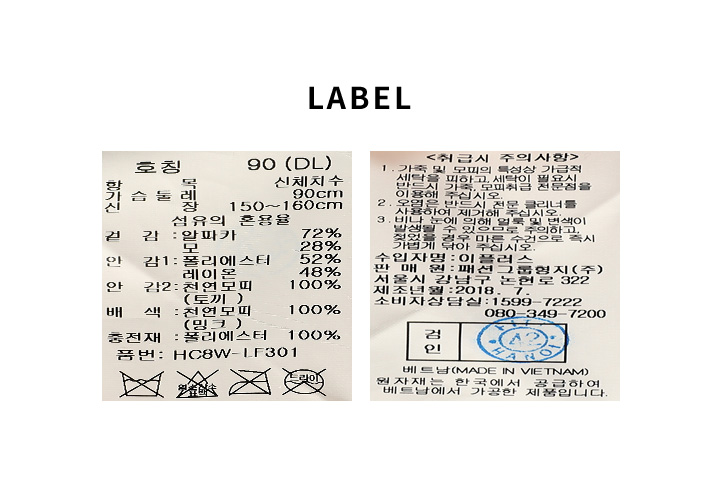KR_no_bleach: (173, 366, 220, 399)
KR_no_dry_clean: (281, 364, 327, 399)
KR_no_iron: (225, 364, 274, 398)
KR_no_wash: (118, 366, 164, 399)
